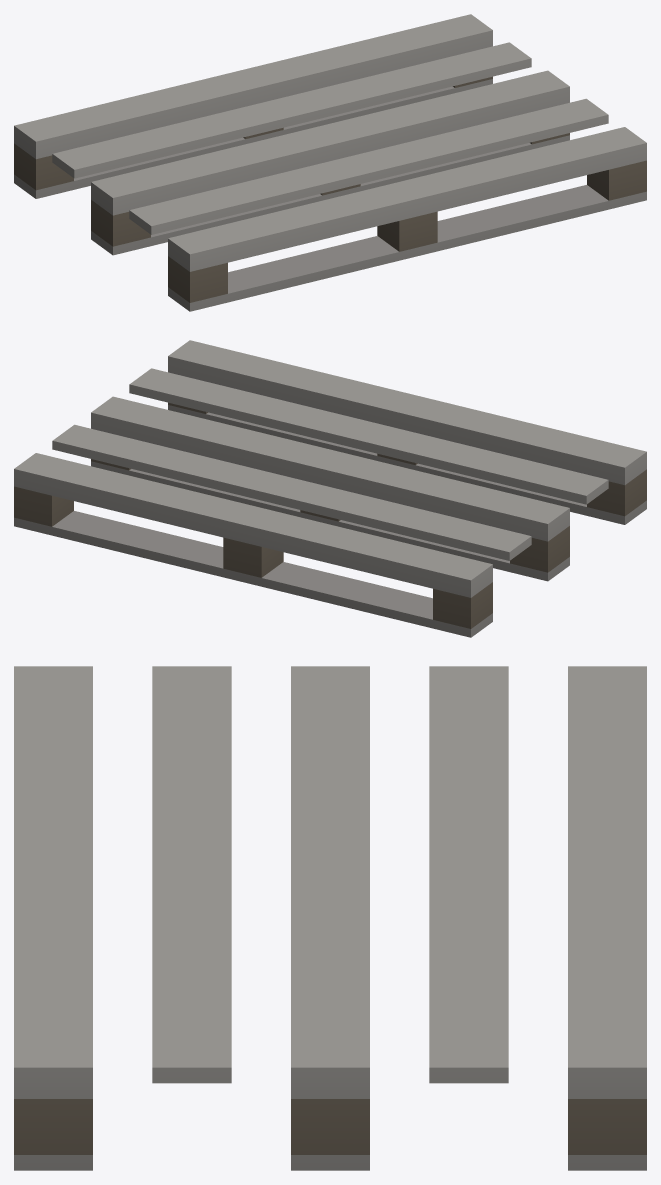
Rendered from pallet_euro.glb.
The picture shows the model from 3 angles, top to bottom: view 1: azimuth 30°, elevation 25°; view 2: azimuth 150°, elevation 25°; view 3: azimuth 270°, elevation 25°; orthographic projection. The views are drawn at different scales.
Visible parts, largest first — view 1: pallet_euro_LOD0; view 2: pallet_euro_LOD0; view 3: pallet_euro_LOD0.
Boxes of the visible parts, x1,y1,x2,y2 form: pallet_euro_LOD0: (14,14,646,311); pallet_euro_LOD0: (14,340,646,637); pallet_euro_LOD0: (14,666,646,1170).
Size of what is drawn, in the model's own units: 1.2 by 0.144 by 0.8.
